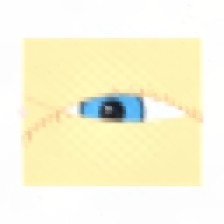pinguecula_lesion: (35, 86, 83, 125)
